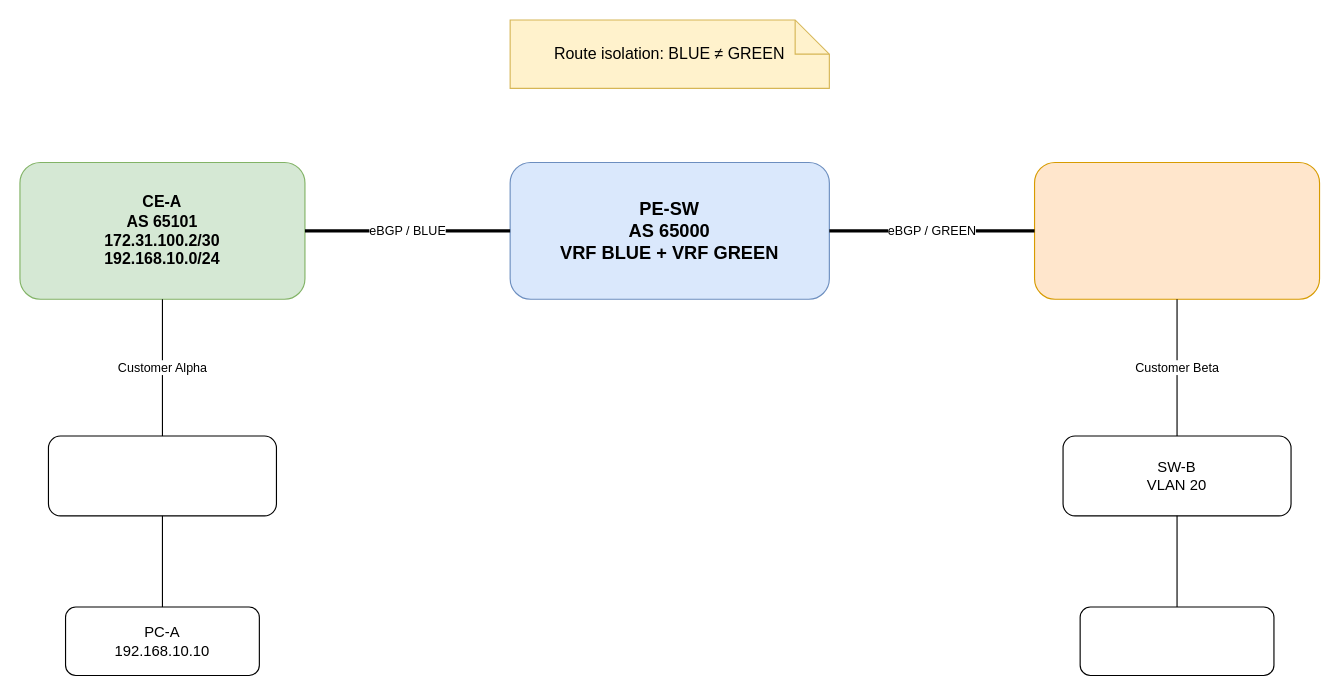
Image size: 1340x695. Some labels were removed from this diagram. Here are the shapes that lost their labels. From the top down, the centre of each, then its label:
At (1176,230): "CE-B AS 65102 172.31.200.2/30 192.168.20.0/24".
At (161,475): "SW-A VLAN 10".
At (1176,640): "PC-B 192.168.20.10".
